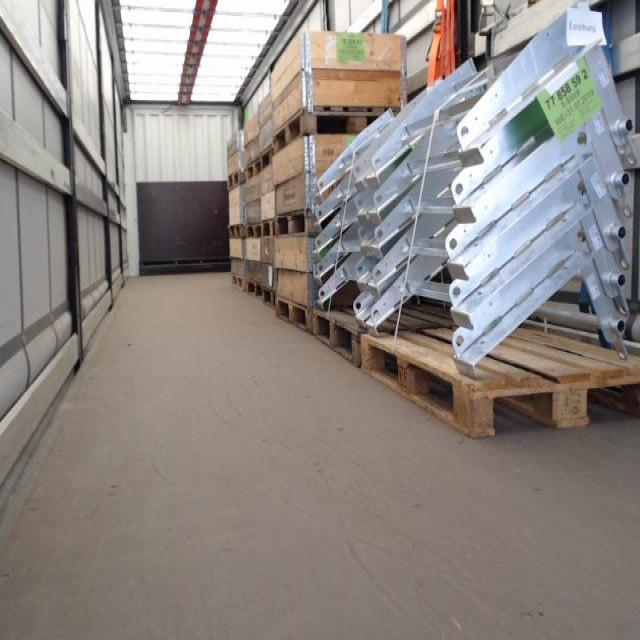pallet: (358, 325, 640, 448), (312, 305, 462, 369), (270, 100, 413, 162), (272, 291, 315, 335), (244, 141, 273, 185), (274, 211, 312, 241), (245, 275, 275, 309), (246, 213, 274, 240), (225, 165, 242, 194), (228, 221, 245, 241), (230, 273, 246, 294)
